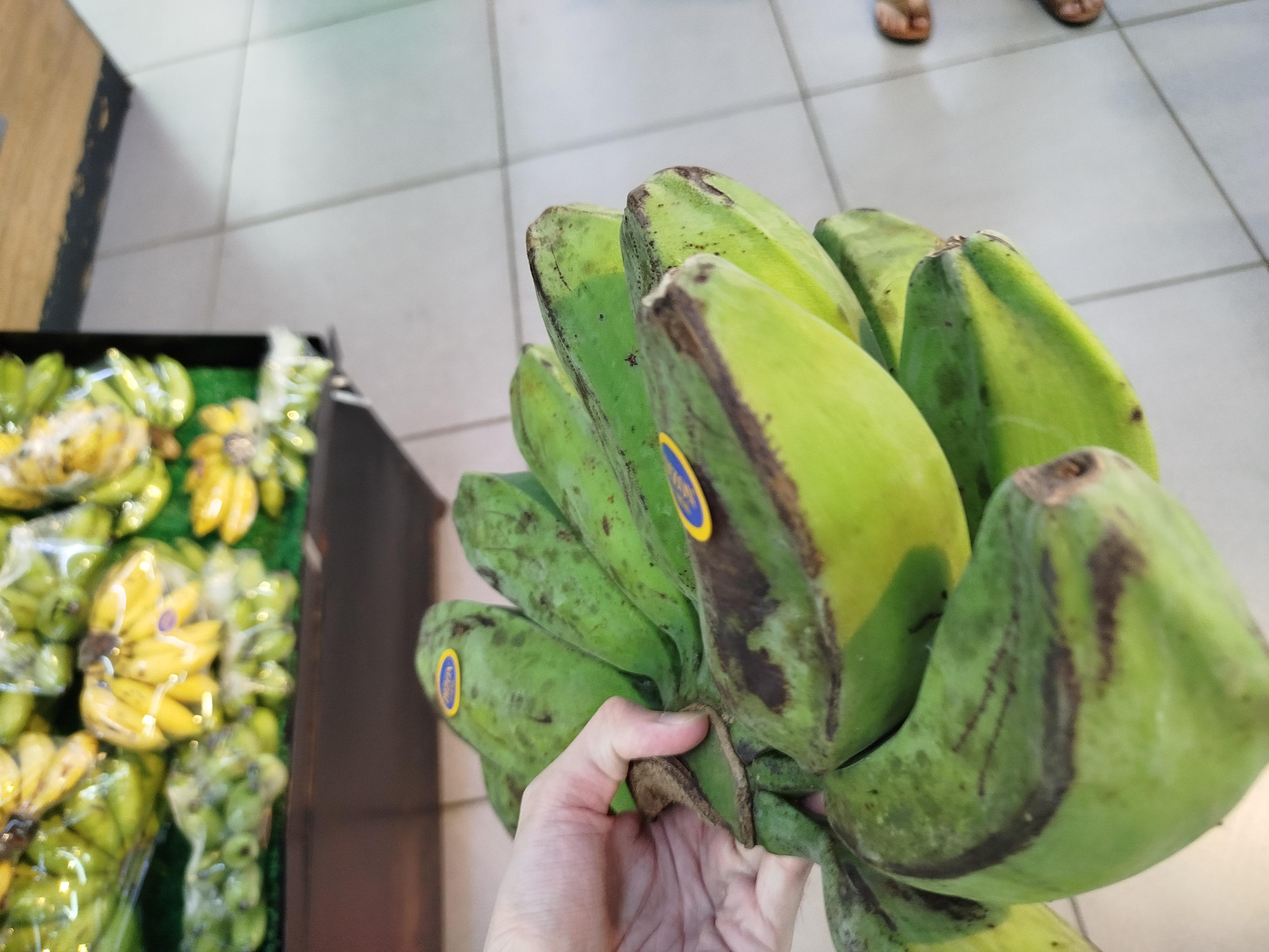underripe: (417, 167, 1269, 952)
